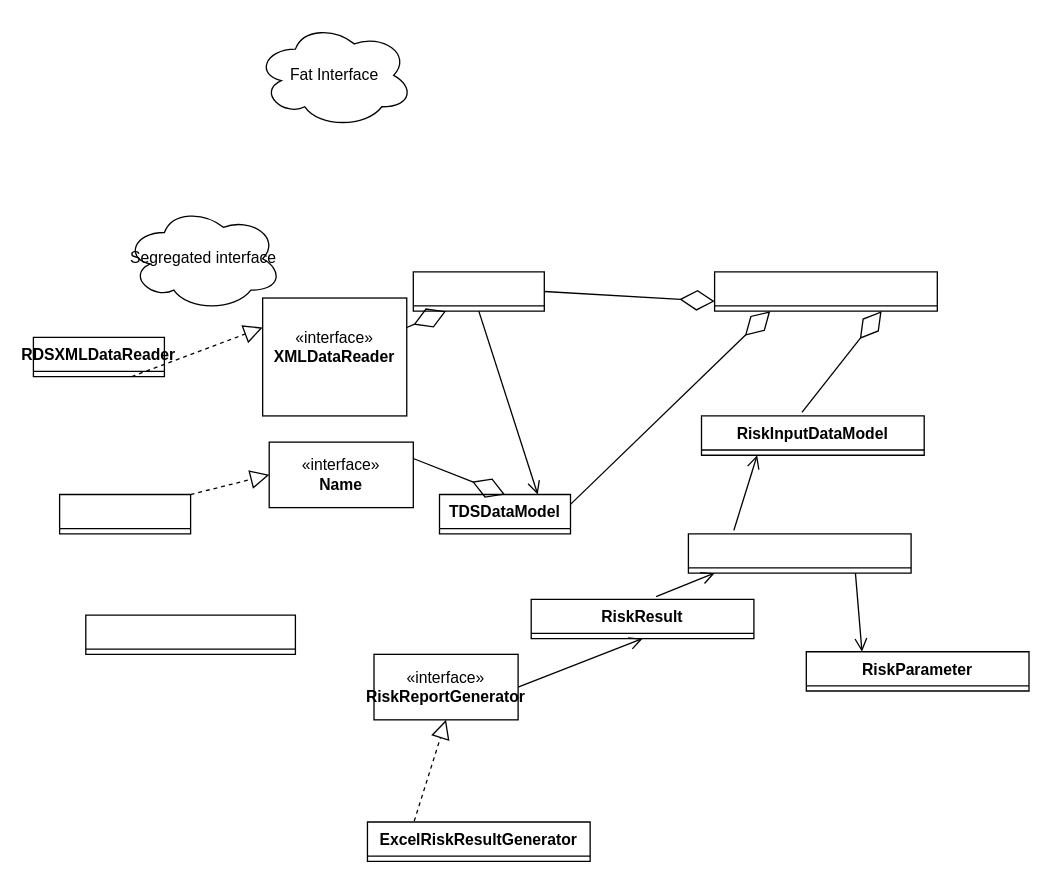
Image size: 1052x884. Some labels were removed from this diagram. The shapes that lost their labels are listed below. From the top down, each one's centre as x and y in pixels, then its label:
pixel 478 291: RDSDataModel
pixel 825 291: RDSTDSDataManager
pixel 124 513: TDSXMLDataReader
pixel 799 553: RiskCalculator
pixel 189 634: Financeriskcontroller
